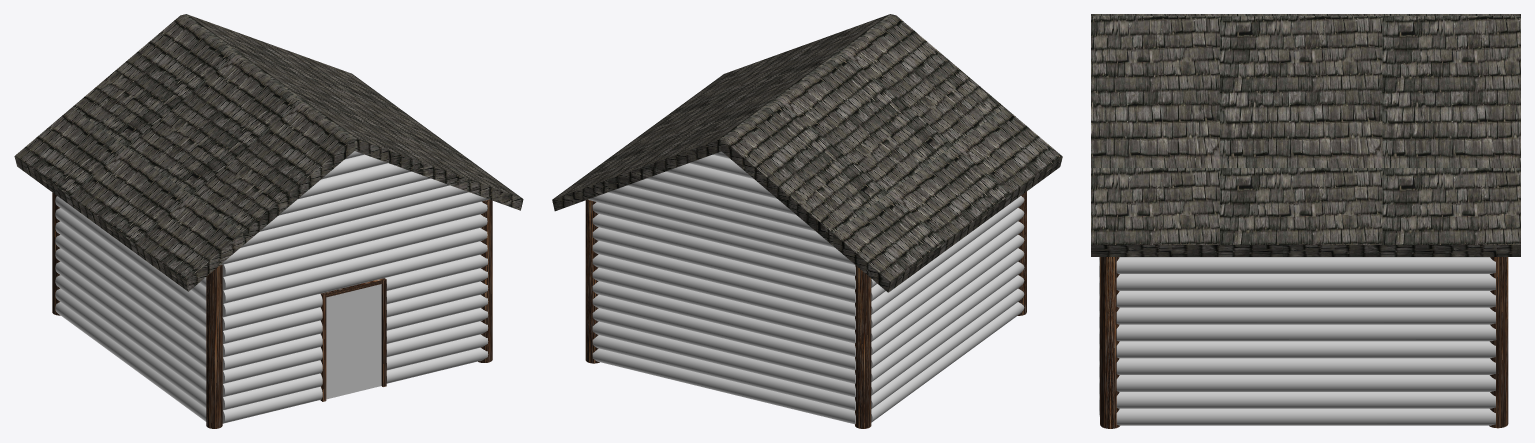
The model's file is BAD HOUSE!!!!!!!!.fbx.
3 renders of one model, left to right at view 1: azimuth 30°, elevation 25°; view 2: azimuth 150°, elevation 25°; view 3: azimuth 270°, elevation 25°, orthographic. The views are drawn at different scales.
Visible parts, largest first — view 1: bad_home; view 2: bad_home; view 3: bad_home.
Boxes of the visible parts, box(x1,y1,x2,y2) form: bad_home: box(14, 14, 523, 428); bad_home: box(552, 14, 1062, 428); bad_home: box(1091, 14, 1520, 428).
Size of the model in its own units: 29.61 by 21.68 by 26.02.
